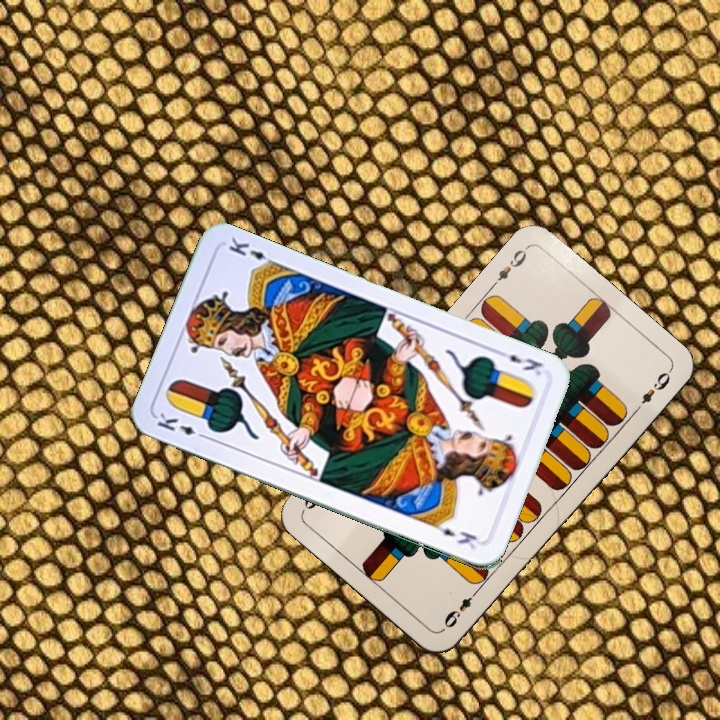E9: (487, 243, 531, 291), (439, 584, 482, 633)
EK: (152, 408, 210, 442), (492, 346, 545, 378)
